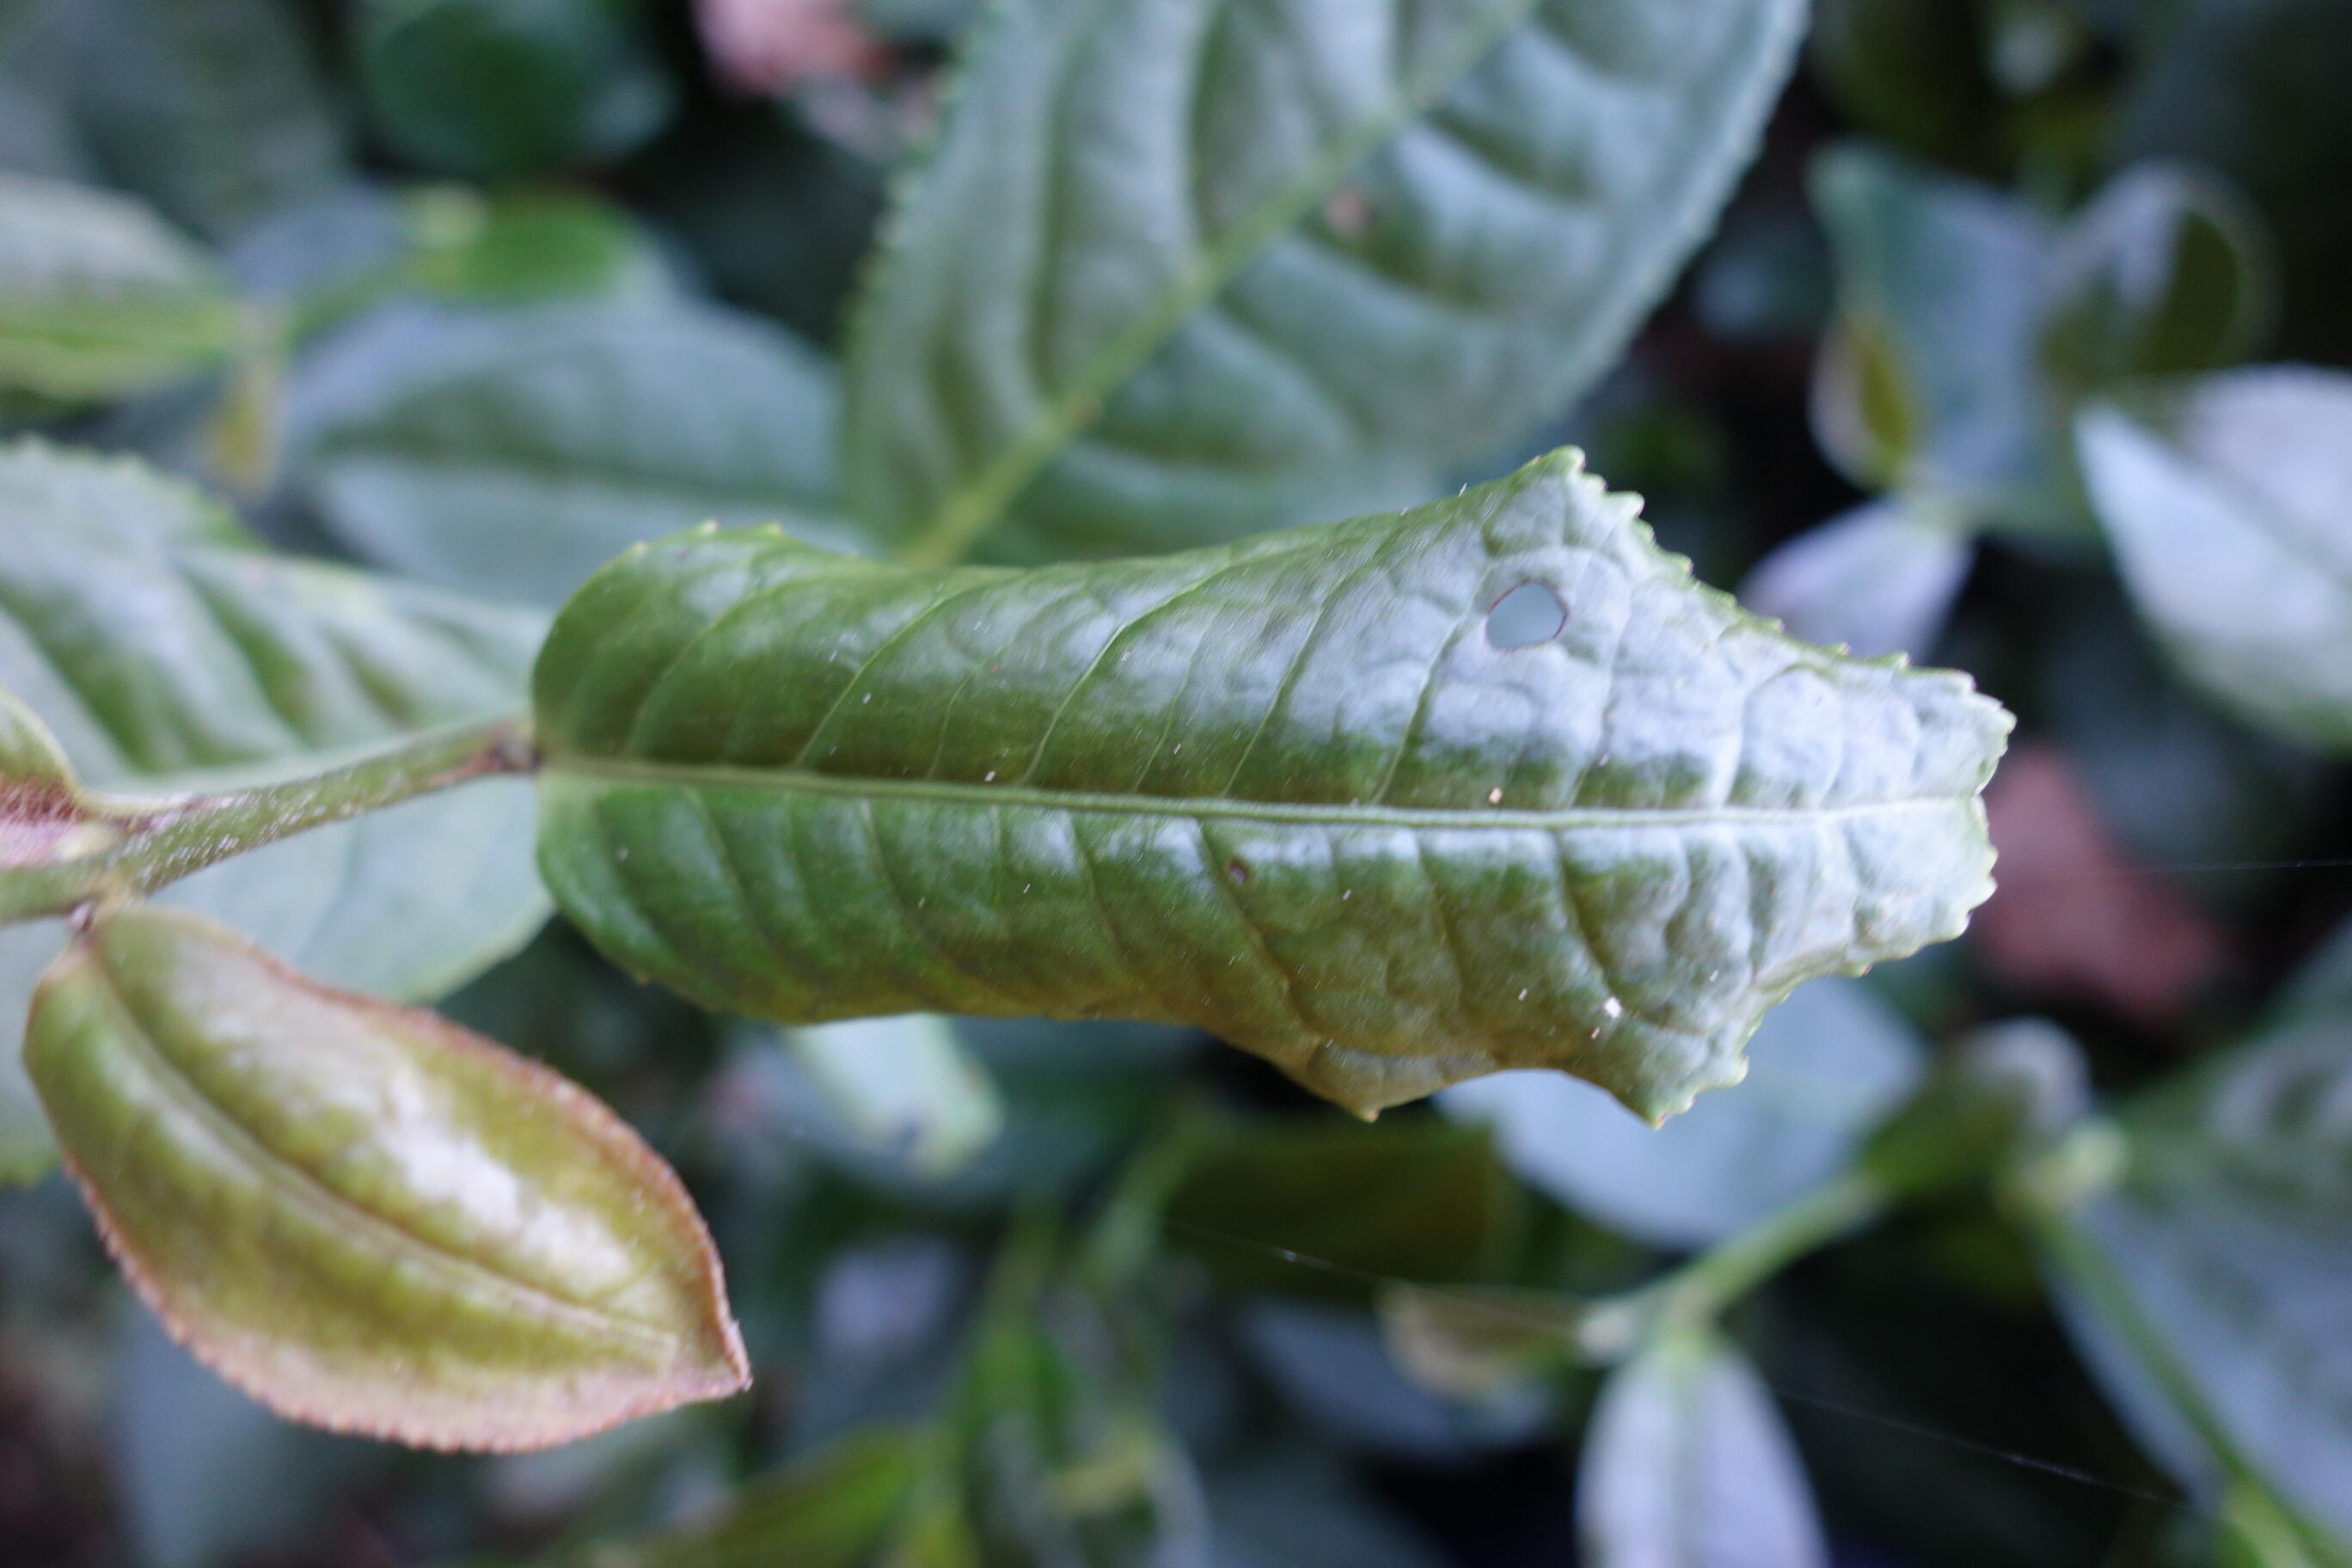chihuo_low: (530, 446, 2018, 1132)
tanju_low: (26, 898, 745, 1458)
